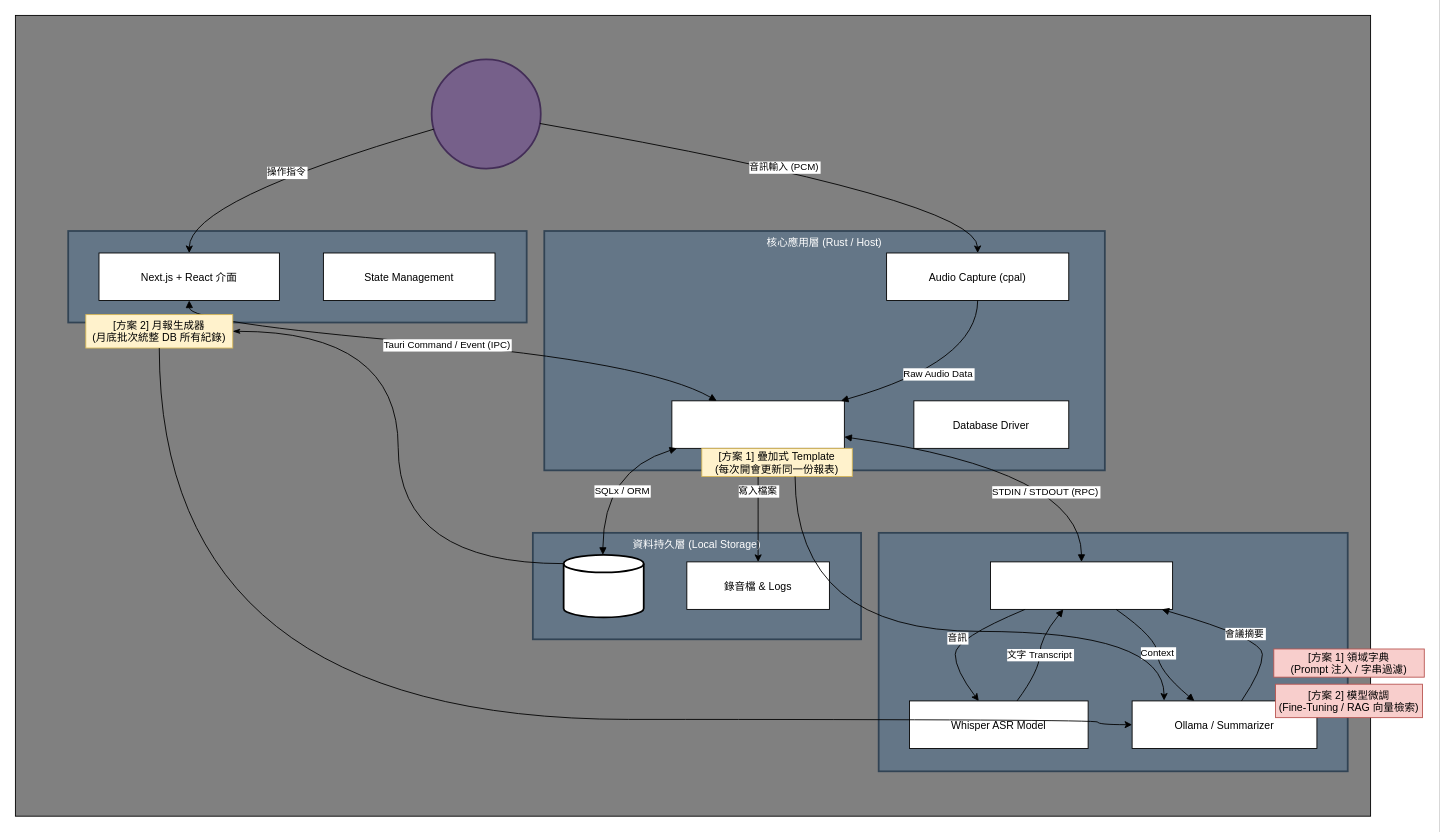
The diagram is 1440 pixels wide and 832 high, and some of its shapes have lost their labels. The box of each missing label's shape, as (x1, y1, x2, y2) in pixels:
AI 運算層 (Sidecar / Service): (877, 532, 1348, 772)
Python Core Service: (990, 561, 1173, 609)
SQLite DB: (562, 554, 644, 618)
Tauri Main Process: (671, 400, 844, 448)
使用者 / 麥克風: (430, 58, 541, 169)
前端展示層 (Frontend / UI): (67, 230, 527, 323)
